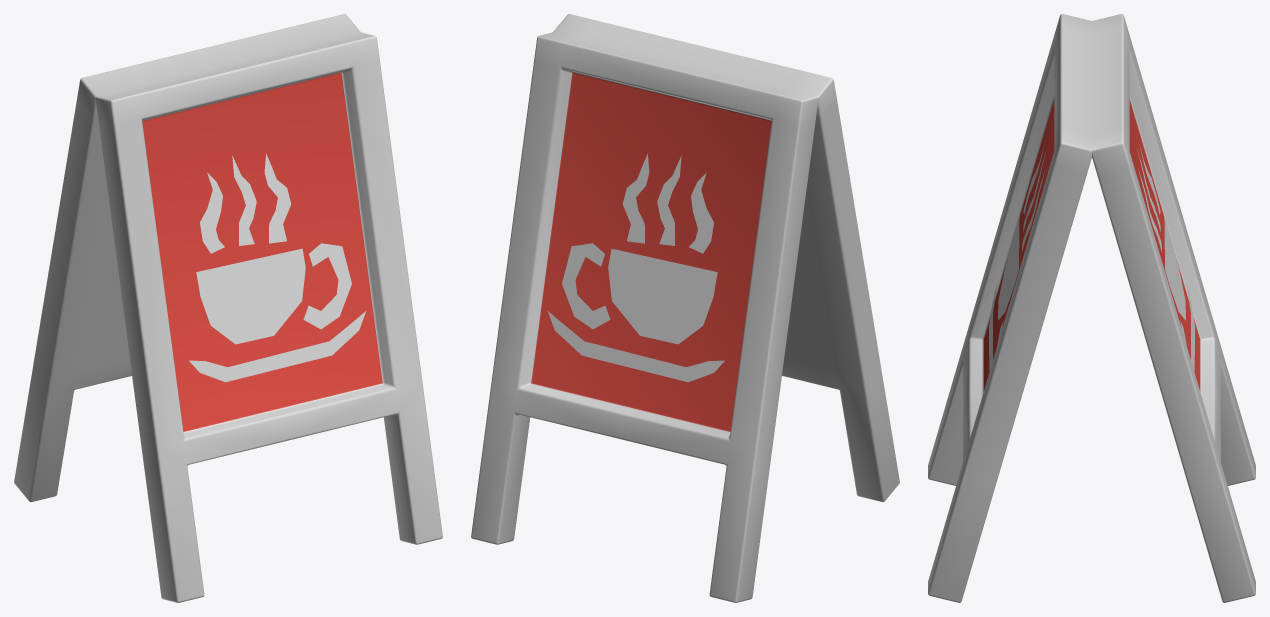
The model's file is CoffeeSign.fbx.
3 views of the same model, side by side, from view 1: azimuth 30°, elevation 25°; view 2: azimuth 150°, elevation 25°; view 3: azimuth 270°, elevation 25° (orthographic).
Parts seen in each view (by area): view 1: CoffeeSign, Logo; view 2: CoffeeSign, Logo; view 3: CoffeeSign, Logo.
Part boxes in pixels (x1,y1,x2,y2): CoffeeSign: [14, 14, 442, 602]; Logo: [189, 154, 365, 382]; CoffeeSign: [471, 14, 899, 602]; Logo: [548, 154, 724, 382]; CoffeeSign: [928, 14, 1255, 602]; Logo: [989, 145, 1194, 371].
Bounding box in the file's own units: 1.33 × 2.2 × 1.42.
